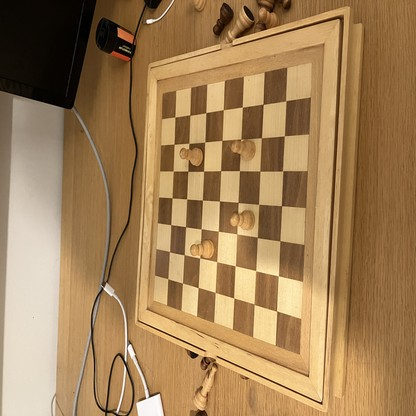bishop_white: (192, 367, 217, 410)
pawn_black: (213, 3, 232, 34)
pawn_white: (180, 147, 203, 167), (190, 240, 214, 259), (232, 141, 256, 160), (231, 212, 255, 230), (260, 9, 279, 29)
